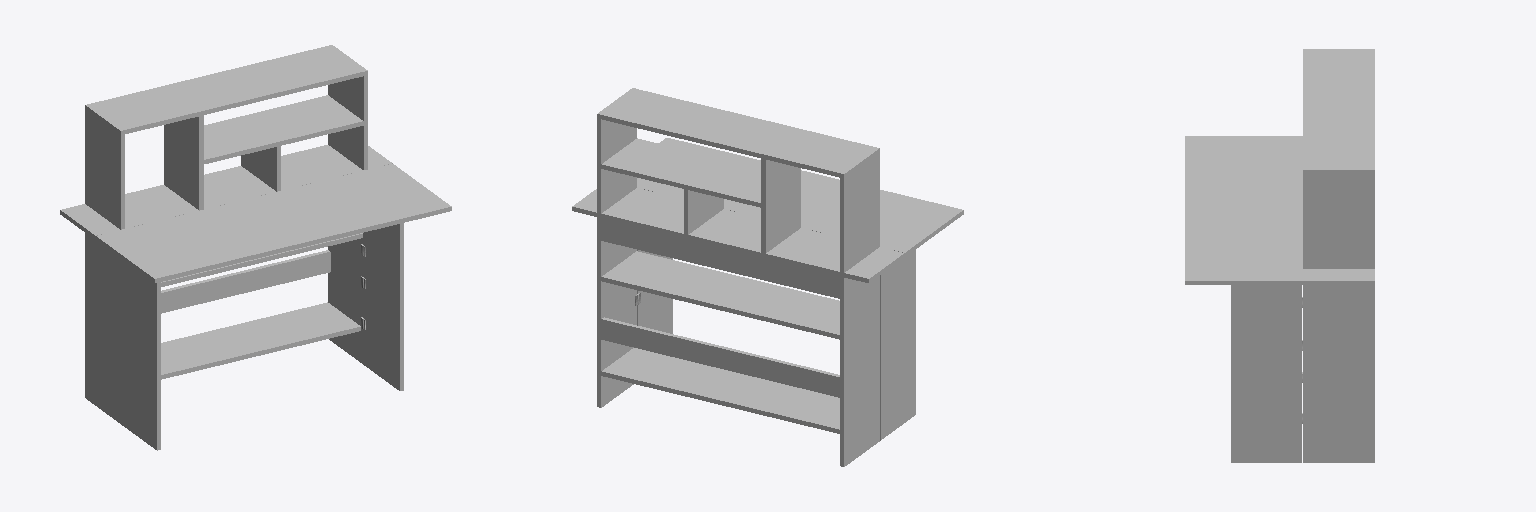
The picture shows the model from 3 angles: view 1: azimuth 30°, elevation 25°; view 2: azimuth 150°, elevation 25°; view 3: azimuth 270°, elevation 25°; orthographic projection.
Parts seen in each view (by area): view 1: Box006_1, Box004_1, Box012_1, Box016_1, Box017_1; view 2: Box006_1, Box012_1, Box004_1, Box016_1, Box017_1; view 3: Box006_1, Box004_1, Box017_1, Box012_1.
Boxes of the visible parts, x1,y1,x2,y2 form: Box006_1: [85, 45, 367, 423]; Box004_1: [60, 145, 451, 282]; Box012_1: [85, 233, 362, 389]; Box016_1: [121, 259, 160, 450]; Box017_1: [364, 223, 403, 390]; Box006_1: [597, 88, 879, 466]; Box012_1: [597, 214, 874, 433]; Box004_1: [572, 138, 963, 282]; Box016_1: [880, 250, 915, 440]; Box017_1: [637, 250, 672, 333]; Box006_1: [1303, 49, 1374, 462]; Box004_1: [1185, 136, 1374, 284]; Box017_1: [1231, 285, 1301, 462]; Box012_1: [1304, 332, 1374, 430].
Size of the model in its own units: 47.19 by 44.5 by 26.02.
4 materials, 1 textured.